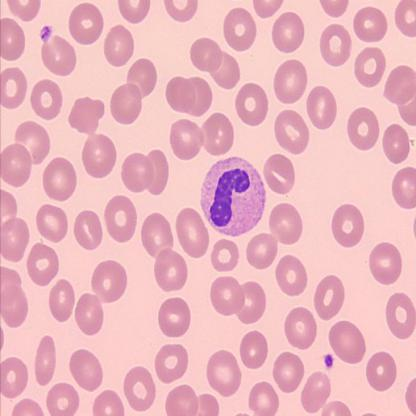Band Neutrophil: (197, 155, 267, 239)
